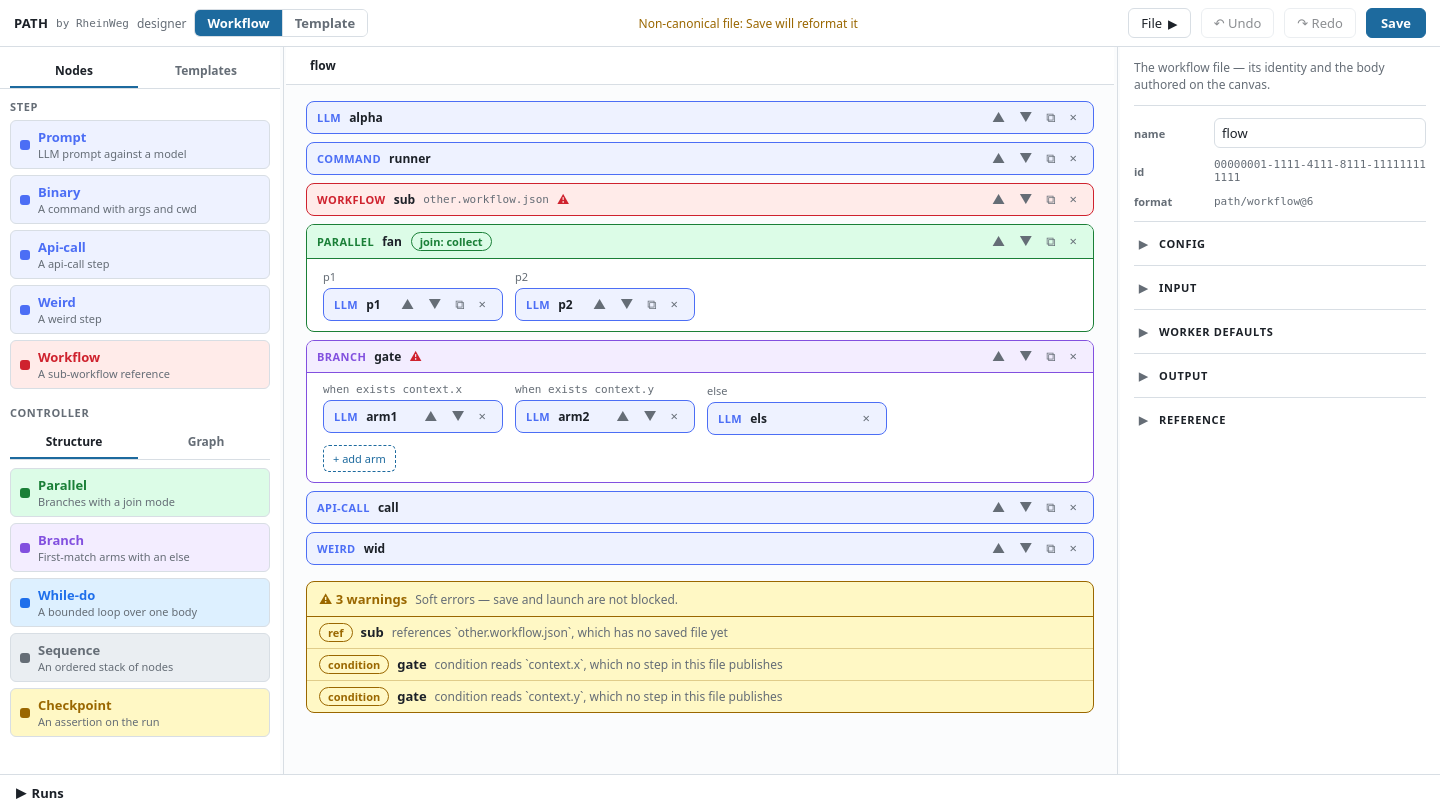
selection populates the pane › shows explanation → name → id → kind fields for a selected step
Expected: the text "alpha" is shown, [349, 109, 383, 126]
Click the text "alpha" at (700, 118), box [306, 101, 1094, 134]
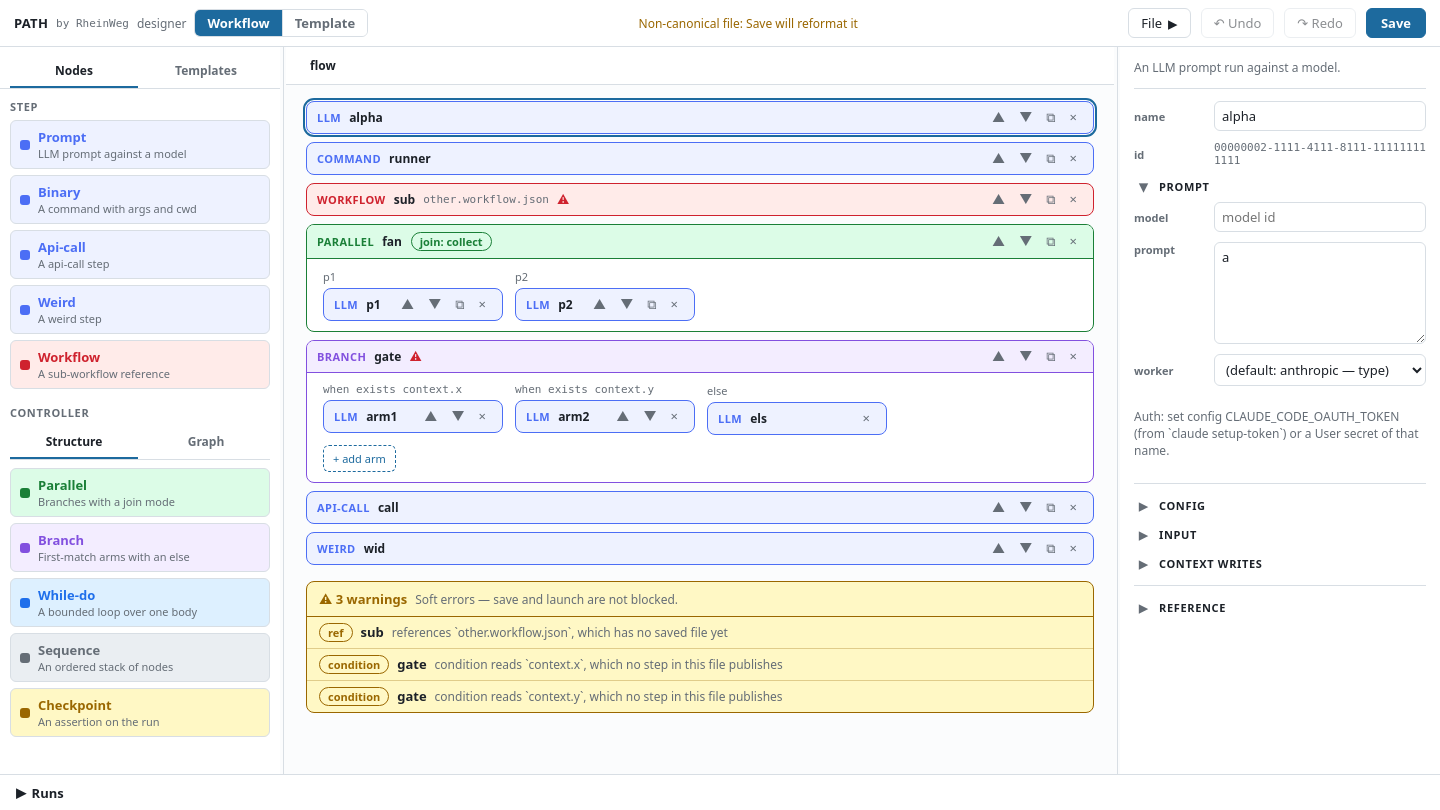
Now the text "An LLM prompt run against a model." is shown, box [1134, 59, 1340, 76]
Now the field labelled "name" holds "alpha", box [1214, 101, 1426, 131]
Now the text box labelled "prompt" is shown, box [1214, 242, 1426, 344]
